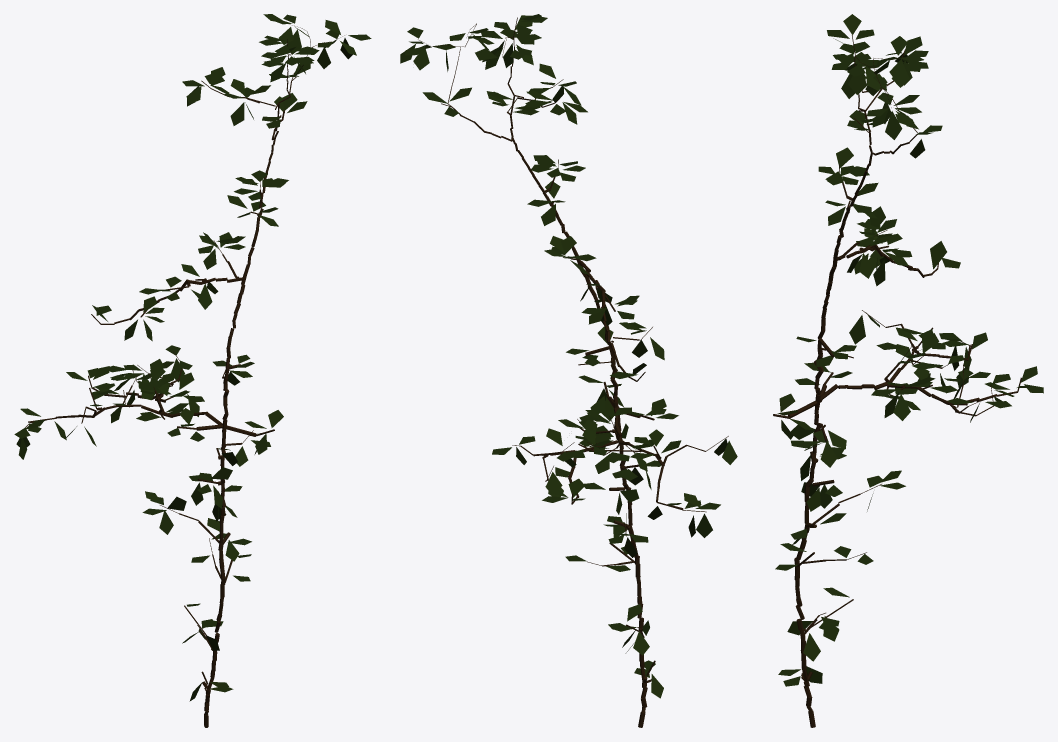
The model's file is tree_450.obj.
The picture shows the model from 3 angles, left to right: view 1: azimuth 30°, elevation 25°; view 2: azimuth 150°, elevation 25°; view 3: azimuth 270°, elevation 25°; orthographic projection. The views are drawn at different scales.
Parts seen in each view (by area): view 1: Leaves, TrunkAndBranches; view 2: Leaves, TrunkAndBranches; view 3: Leaves, TrunkAndBranches.
Boxes of the visible parts, bbox=[...] form: Leaves: bbox=[14, 14, 371, 701]; TrunkAndBranches: bbox=[25, 24, 344, 727]; Leaves: bbox=[400, 14, 737, 698]; TrunkAndBranches: bbox=[418, 17, 728, 727]; Leaves: bbox=[775, 14, 1043, 686]; TrunkAndBranches: bbox=[773, 35, 1021, 727].
Bounding box in the file's own units: 4.08 × 8.02 × 2.67.
